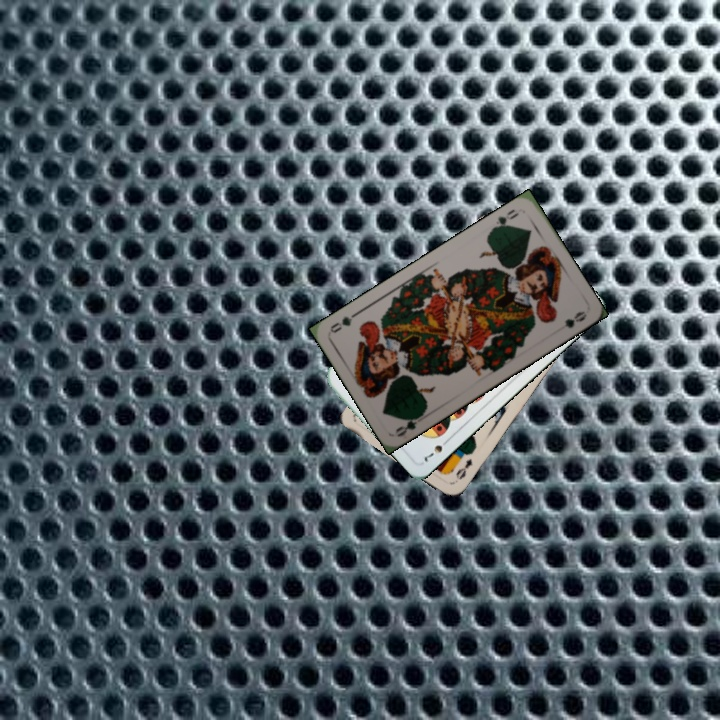EO: (449, 454, 475, 485)
GO: (391, 408, 427, 439), (487, 205, 522, 233)
S7: (420, 434, 453, 465)
